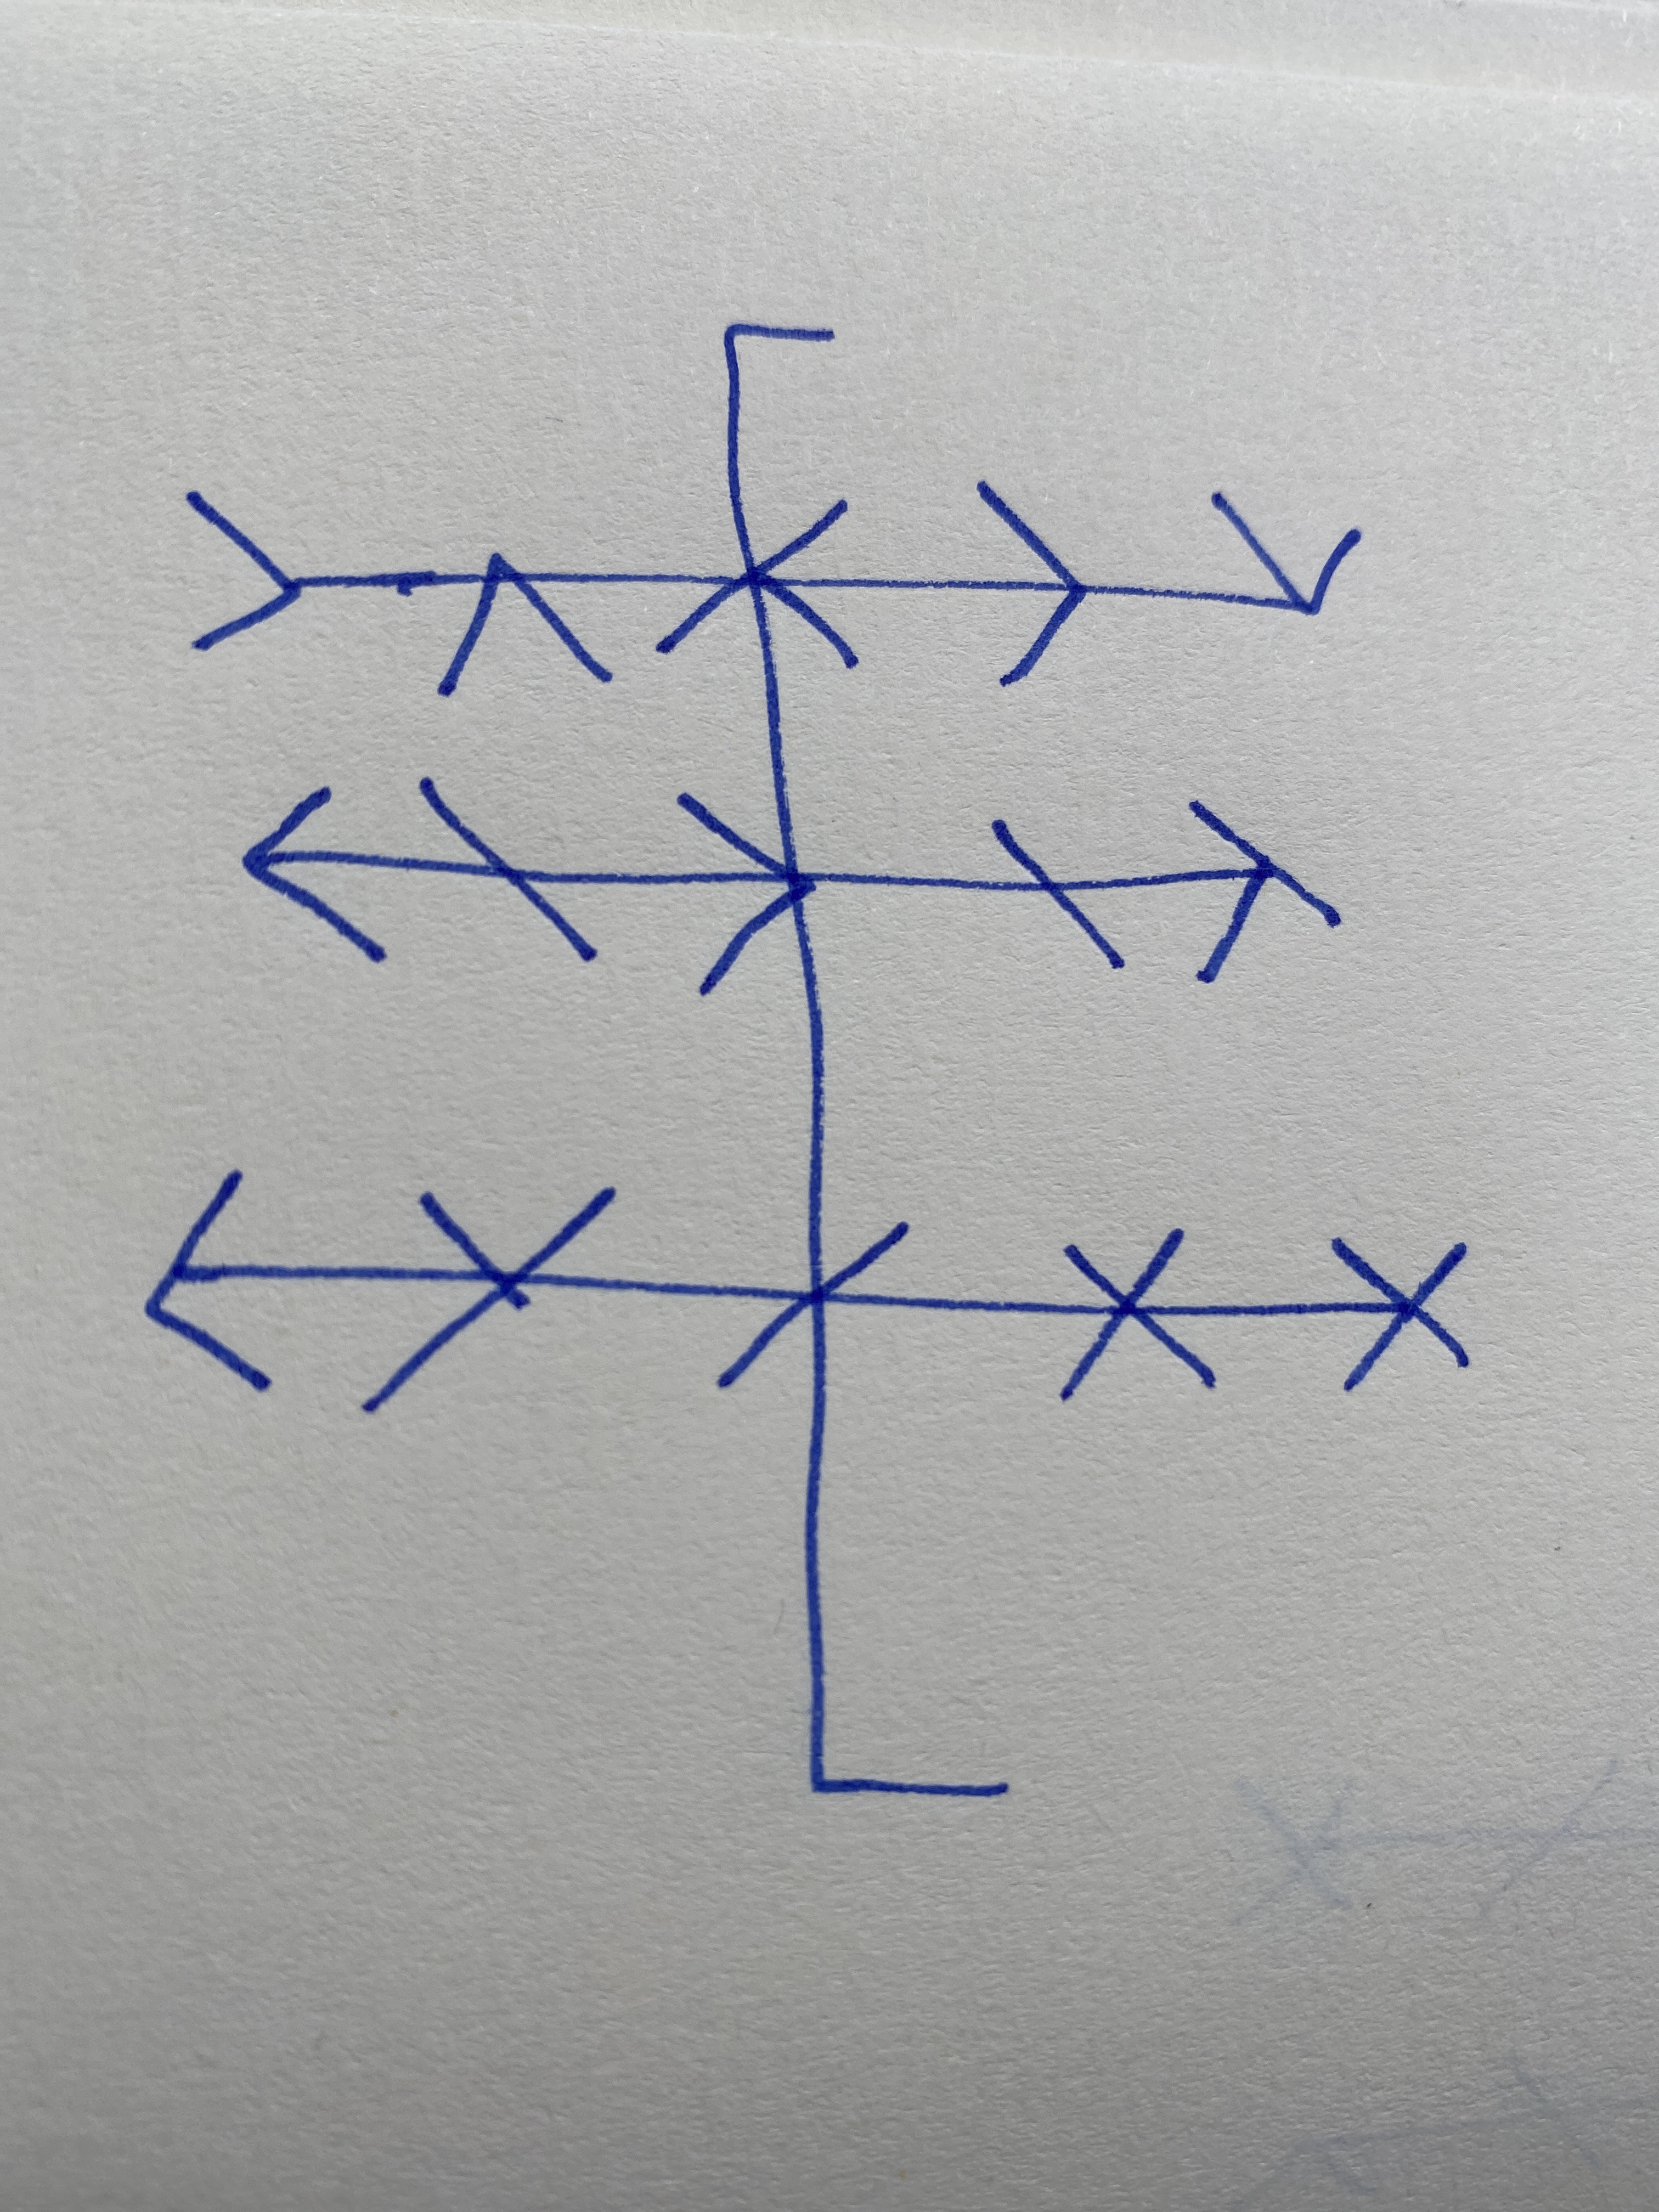Bar: (145, 1165, 1471, 1416), (185, 477, 1364, 695), (242, 775, 1345, 995)
Barcode: (143, 320, 1471, 1796)
End: (802, 1317, 1012, 1796)
Start: (721, 322, 836, 498)
